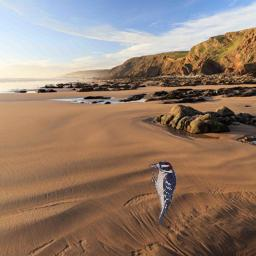Woodpecker: (149, 160, 178, 225)
